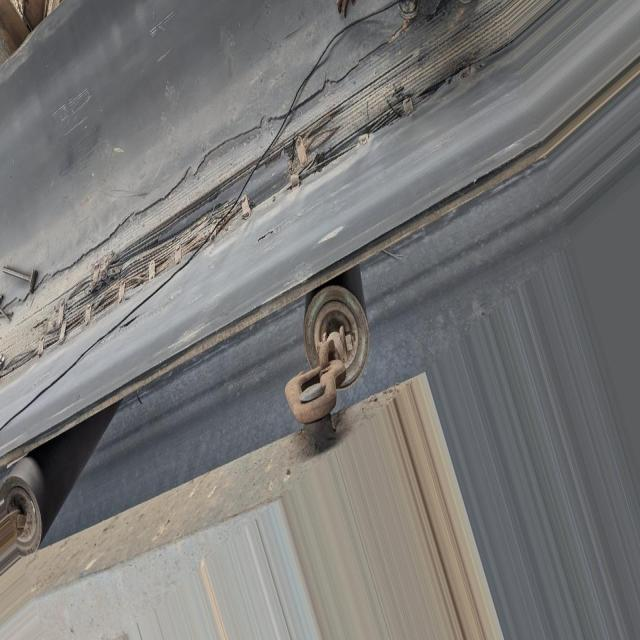Other Objects: (2, 253, 44, 287)
Roller: (1, 397, 120, 553), (304, 262, 369, 387)
Tear: (1, 42, 470, 372)
